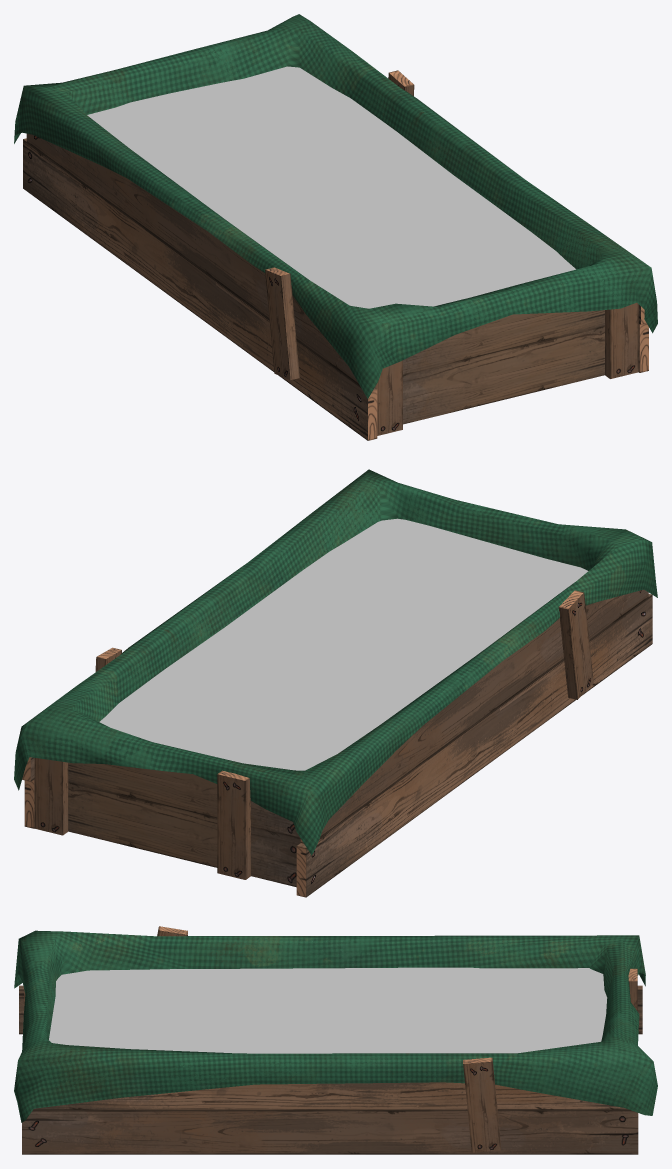
Rendered from raisedBed07.fbx.
3 views of the same model, one above another, from view 1: azimuth 30°, elevation 25°; view 2: azimuth 150°, elevation 25°; view 3: azimuth 270°, elevation 25° (orthographic). The views are drawn at different scales.
Parts seen in each view (by area): view 1: raisedBed07; view 2: raisedBed07; view 3: raisedBed07.
Boxes of the visible parts, left/top/right/bottom form: raisedBed07: left=14, top=14, right=657, bottom=440; raisedBed07: left=14, top=469, right=657, bottom=897; raisedBed07: left=14, top=926, right=657, bottom=1154.
Bounding box in the file's own units: 161 × 57.5 × 327.
